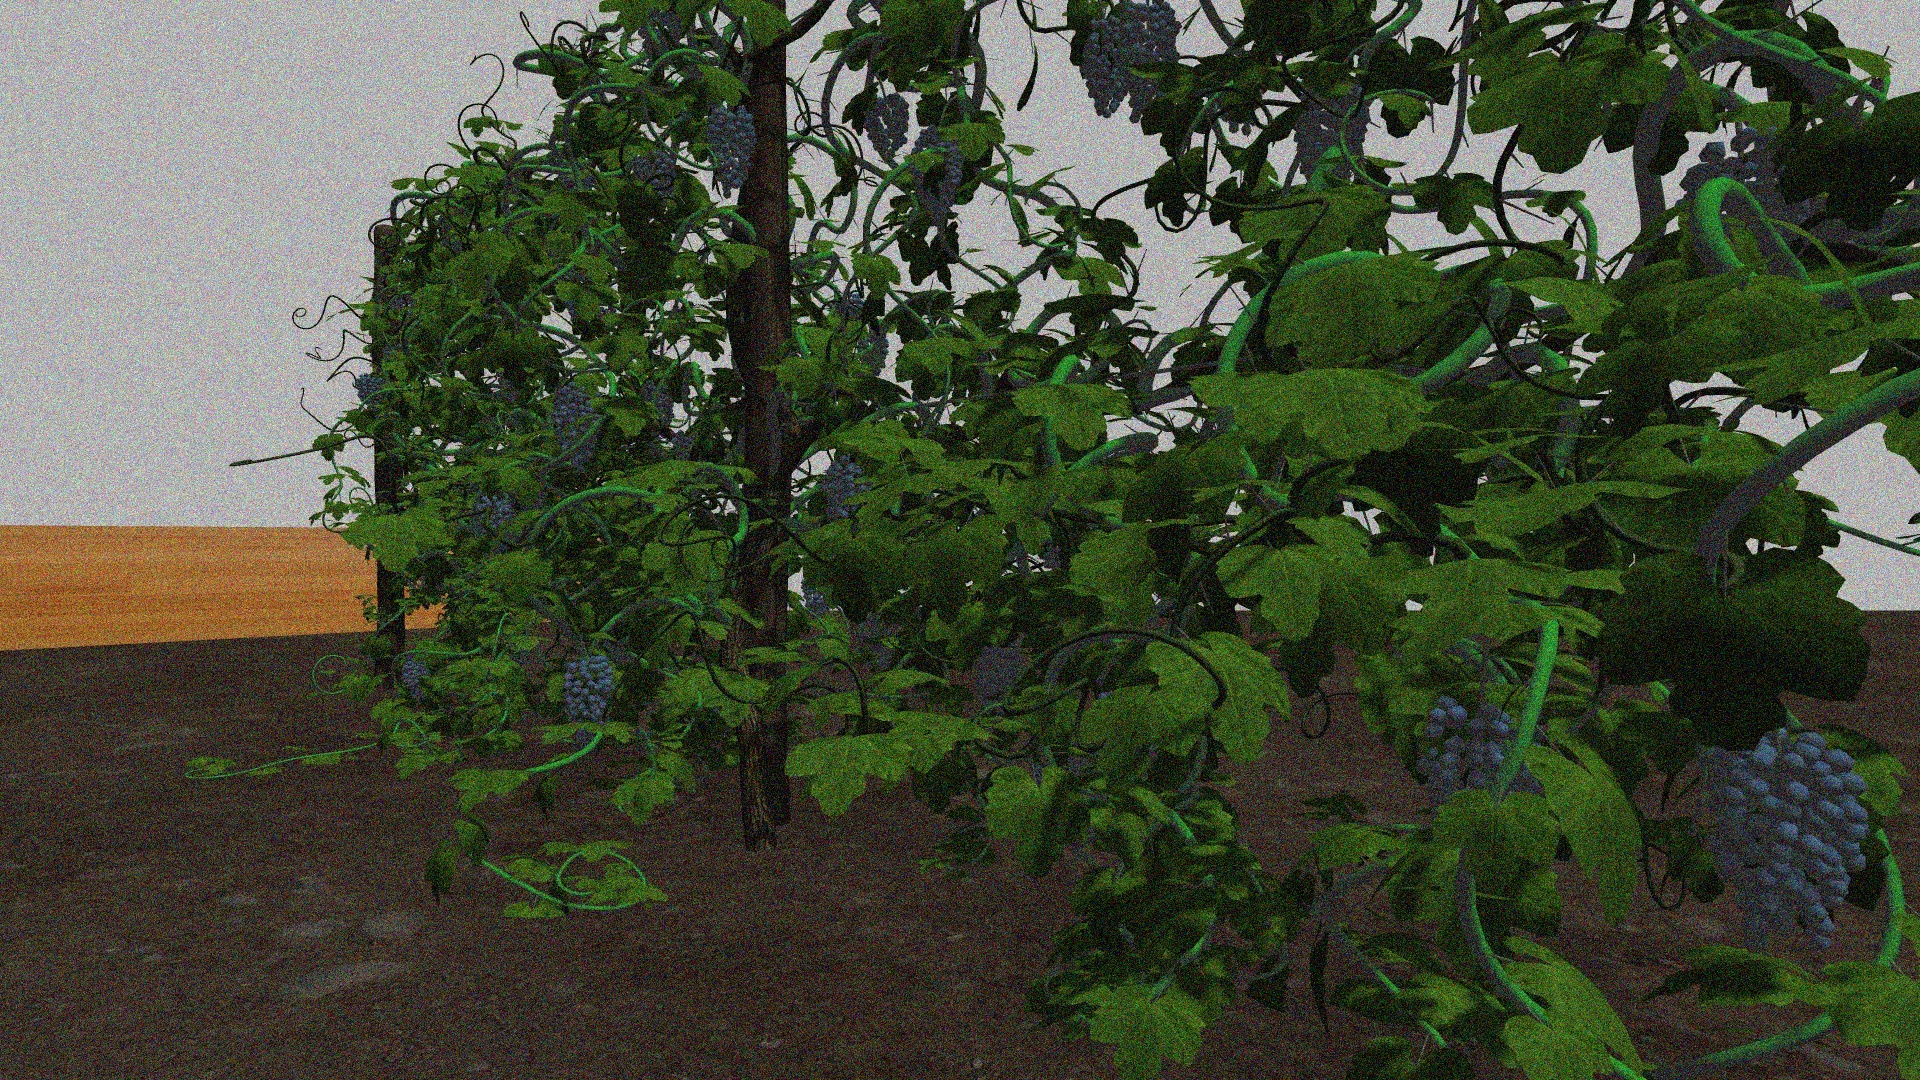grape: (1702, 728, 1873, 957), (1414, 695, 1515, 814), (1292, 83, 1371, 185), (1121, 4, 1178, 123), (1079, 16, 1131, 117), (911, 129, 964, 222), (707, 103, 756, 196), (551, 381, 599, 473), (560, 653, 620, 724), (971, 644, 1027, 707), (820, 454, 869, 524), (858, 615, 901, 671), (633, 149, 676, 199), (475, 495, 516, 538), (398, 659, 434, 703), (353, 373, 386, 405)
